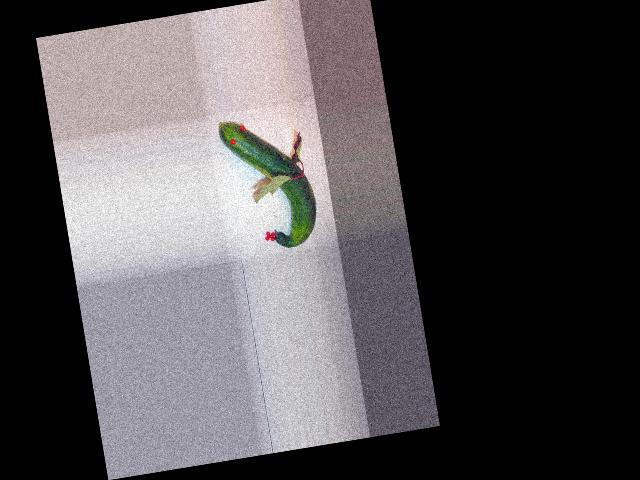cucumber: (217, 111, 322, 256)
